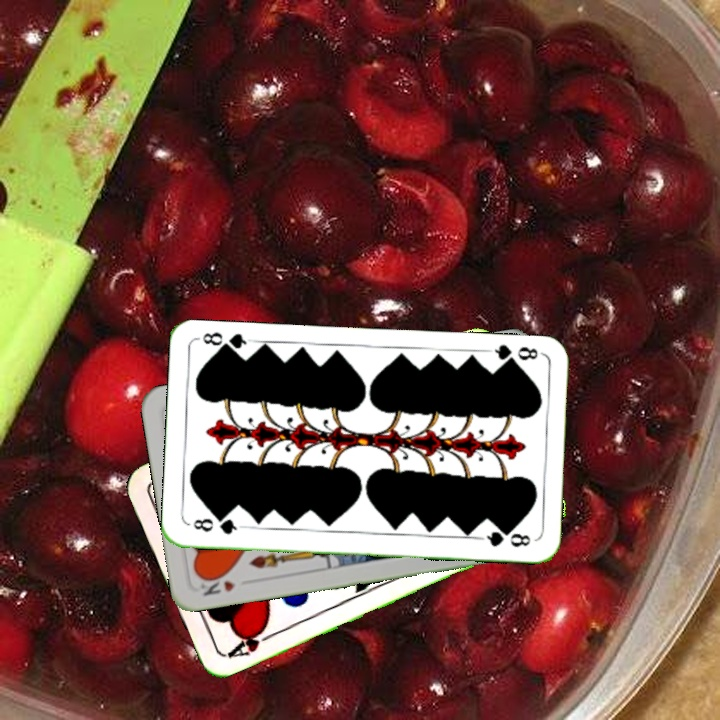G8: (484, 341, 543, 369), (189, 514, 245, 537)
HA: (222, 622, 278, 661)
HK: (196, 570, 238, 599)
